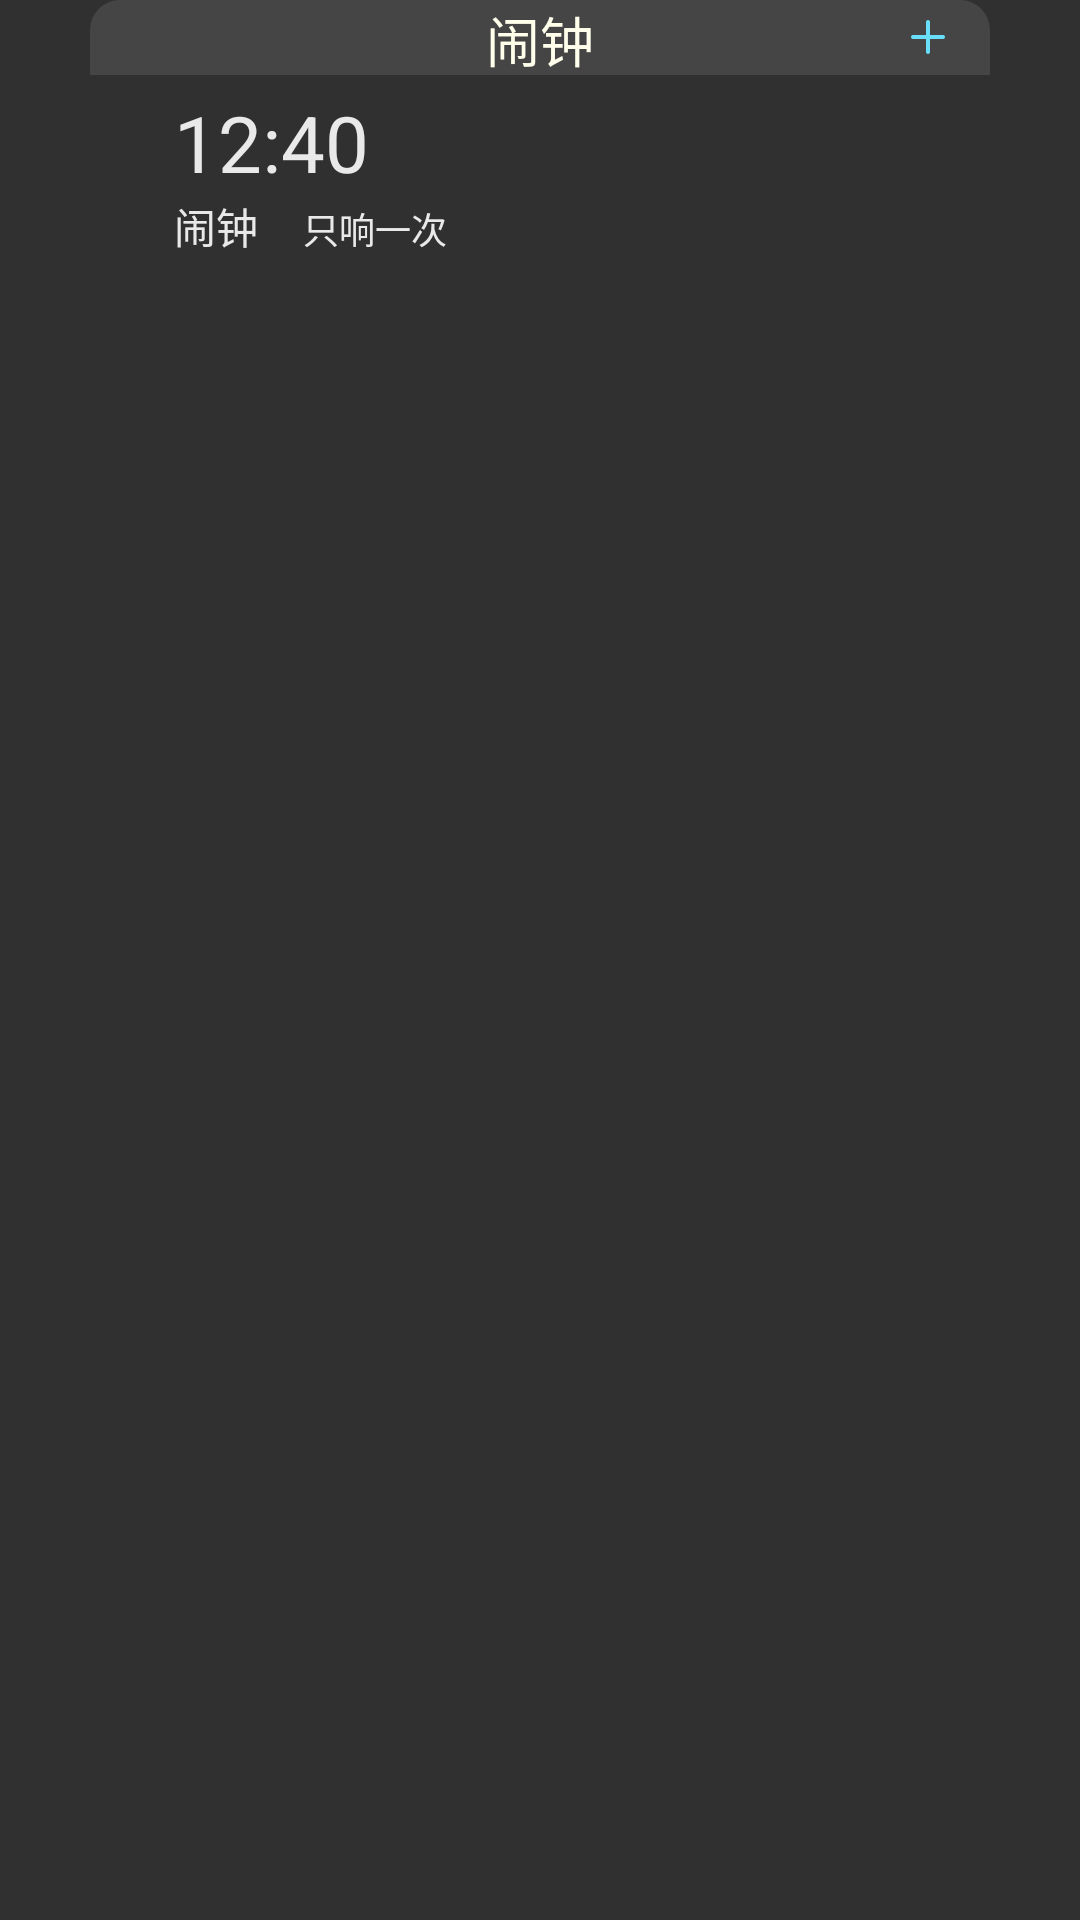

Icon bounding boxes for this 1080px×1920px phone screenshot, format Rect(x1, y1, x2, y2):
clock center add: Rect(911, 20, 945, 54)
